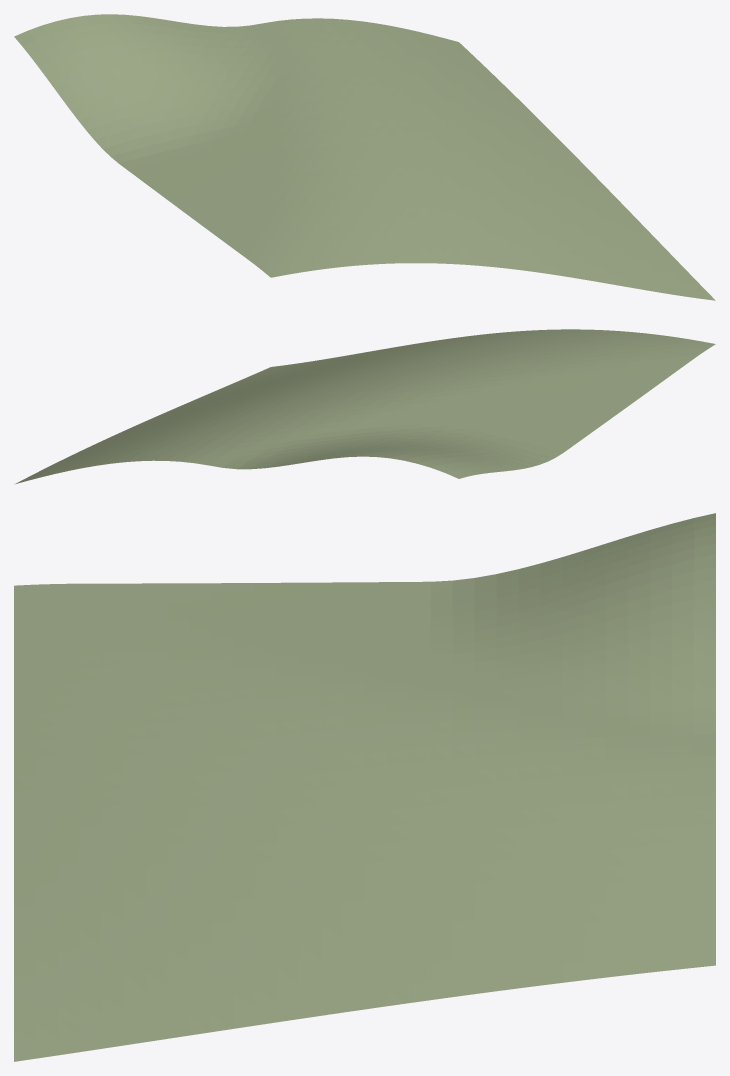
Rendered from desert-21-19.glb.
3 renders of one model, top to bottom at view 1: azimuth 30°, elevation 25°; view 2: azimuth 150°, elevation 25°; view 3: azimuth 270°, elevation 25°, orthographic. The views are drawn at different scales.
Visible parts, largest first — view 1: desert-21-19; view 2: desert-21-19; view 3: desert-21-19.
Part boxes in pixels (x1,y1,x2,y2): desert-21-19: (14, 14, 715, 300); desert-21-19: (14, 329, 715, 484); desert-21-19: (14, 513, 715, 1061).
Size of the model in its own units: 512 by 209 by 512.
